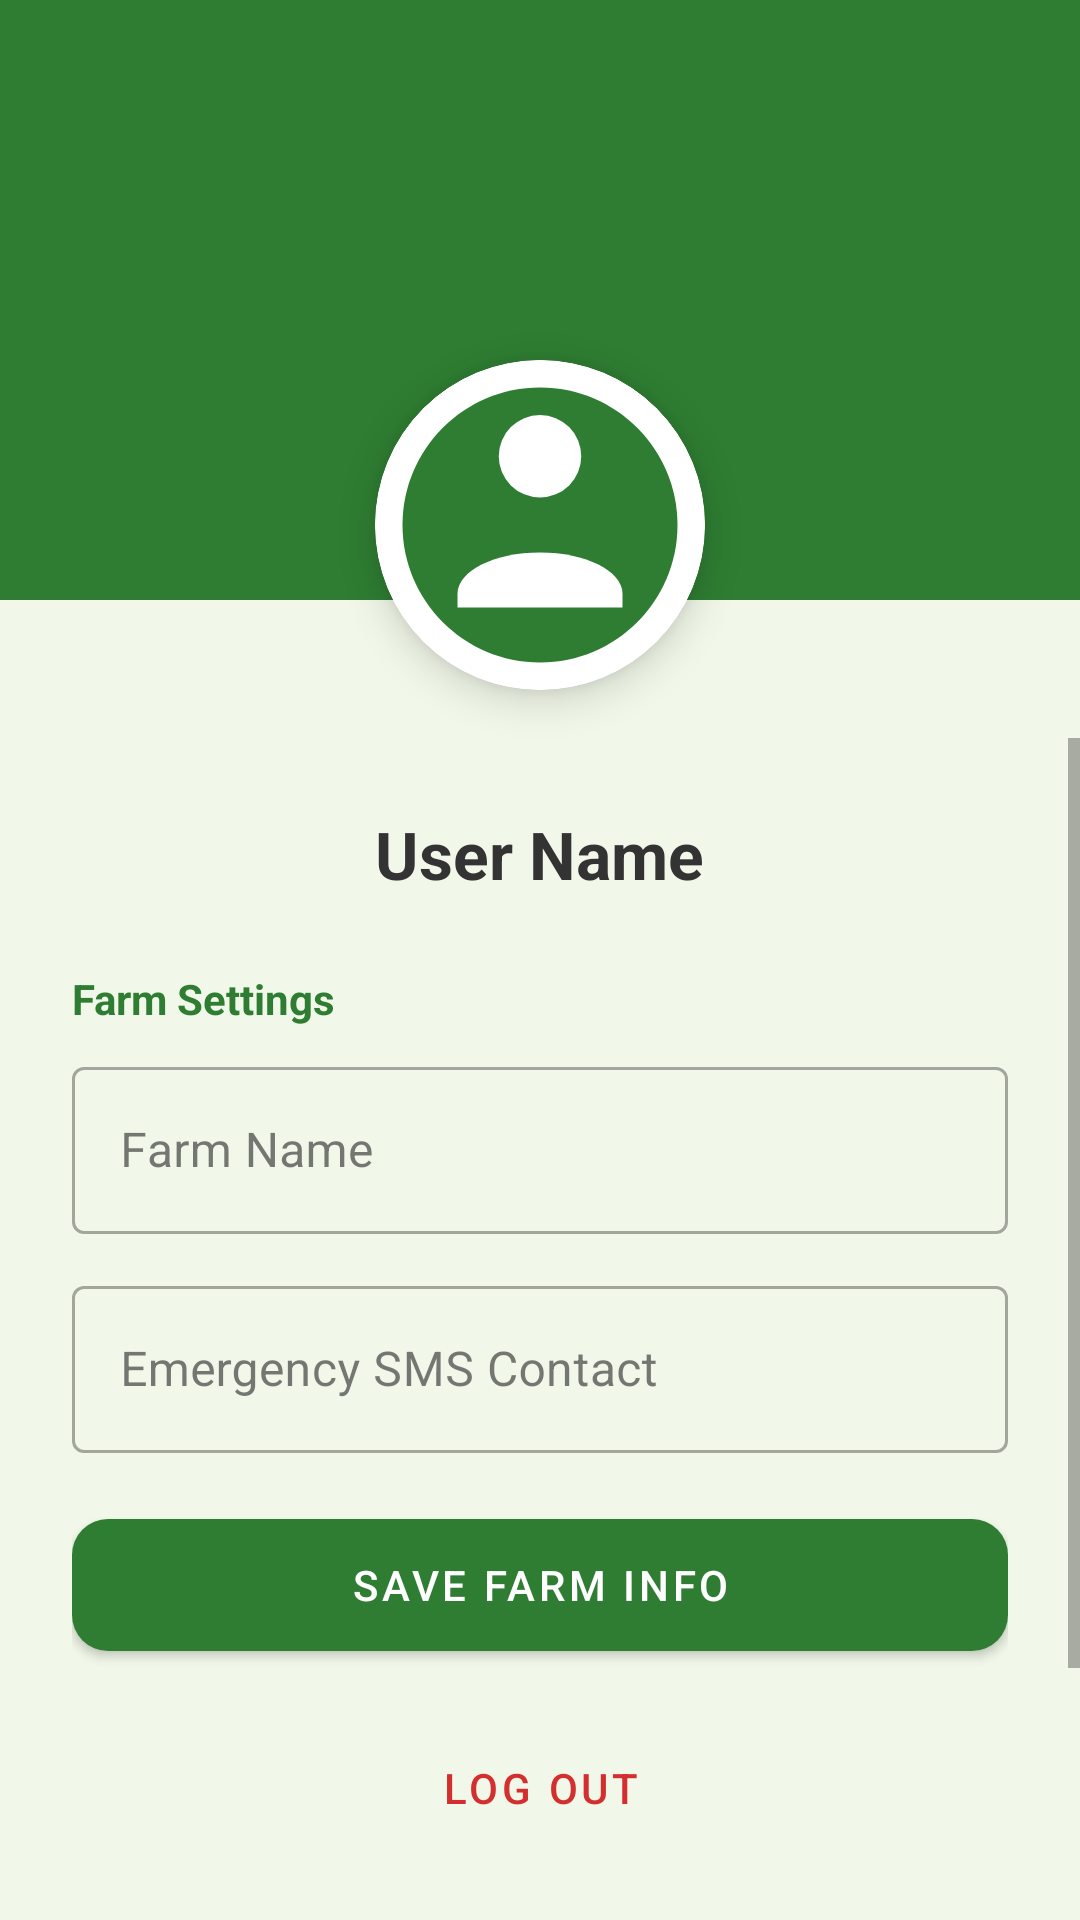

Screen size 1080px×1920px. Icon name, then its box in pixels as bbox=(x1, y1, x2, y2):
account: bbox=(375, 360, 705, 690)
